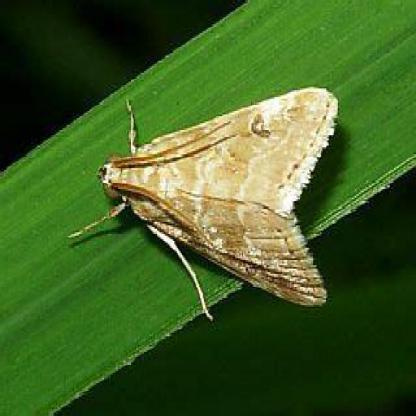Hellula undalis: (61, 80, 342, 322)
